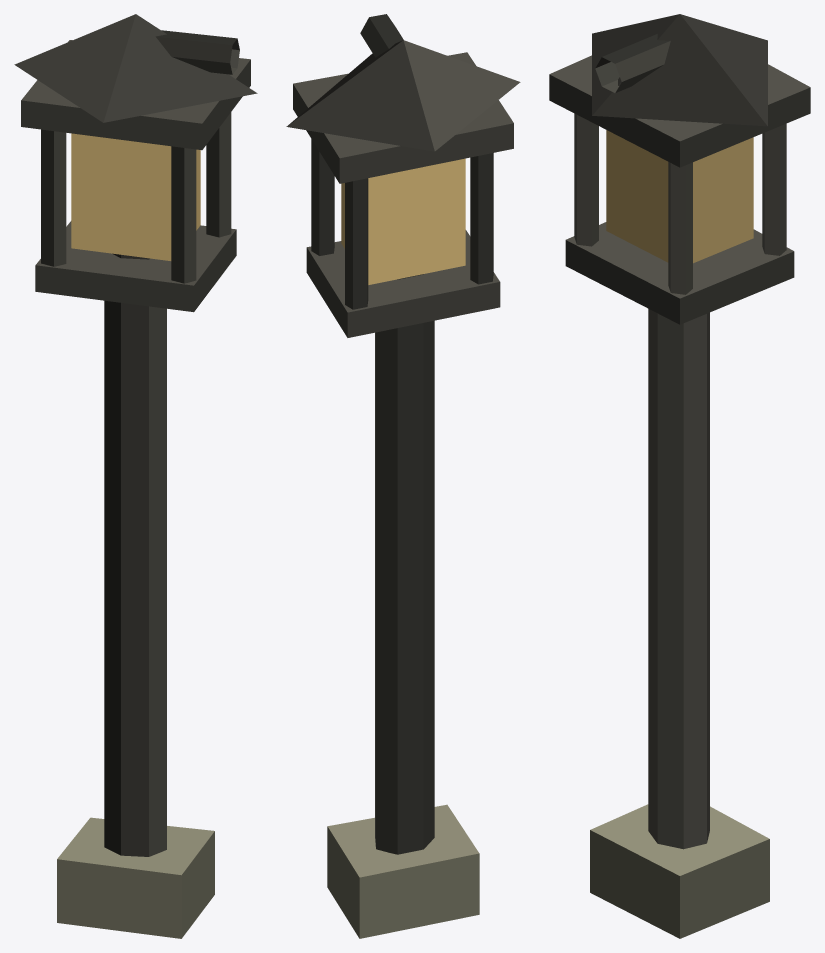
The picture shows the model from 3 angles, left to right: view 1: azimuth 30°, elevation 25°; view 2: azimuth 150°, elevation 25°; view 3: azimuth 270°, elevation 25°; orthographic projection. The views are drawn at different scales.
Visible parts, largest first — view 1: 72c87909bccdc69f2faaff4b8971f13b996fafc25125b3583fbfa56cc440; view 2: 72c87909bccdc69f2faaff4b8971f13b996fafc25125b3583fbfa56cc440; view 3: 72c87909bccdc69f2faaff4b8971f13b996fafc25125b3583fbfa56cc440.
Boxes of the visible parts, <box> form: 72c87909bccdc69f2faaff4b8971f13b996fafc25125b3583fbfa56cc440: <box>14,14,257,938</box>; 72c87909bccdc69f2faaff4b8971f13b996fafc25125b3583fbfa56cc440: <box>286,14,520,938</box>; 72c87909bccdc69f2faaff4b8971f13b996fafc25125b3583fbfa56cc440: <box>549,14,810,938</box>.
Size of the model in its own units: 0.9051 by 3.39 by 0.9051.
2 materials, 1 textured.
